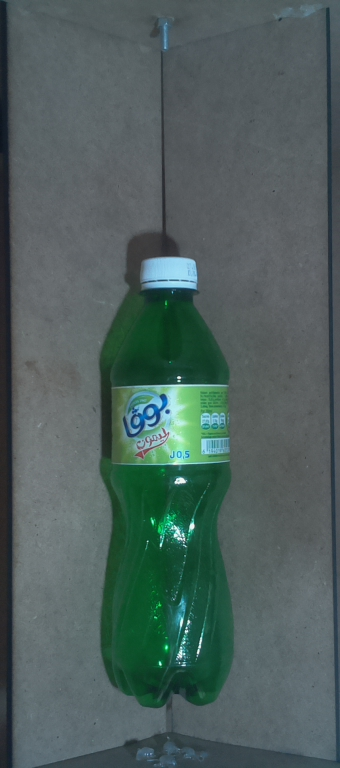Bouteille_0.5L: (96, 250, 243, 711)
